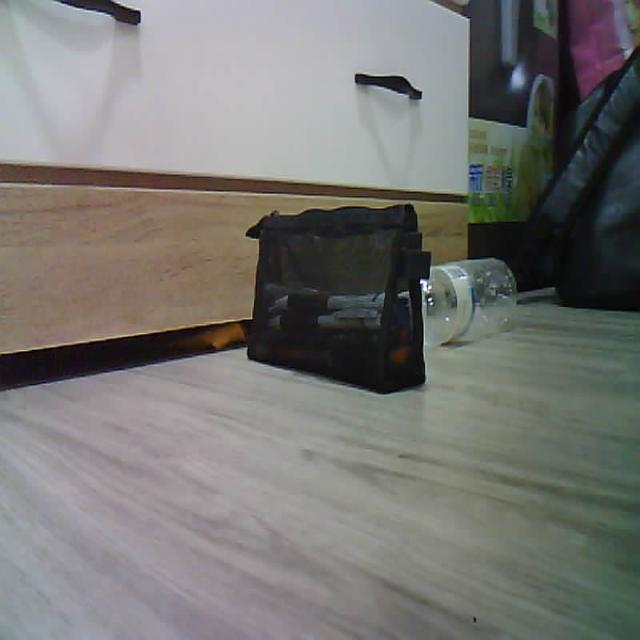bottle: (422, 258, 517, 347)
